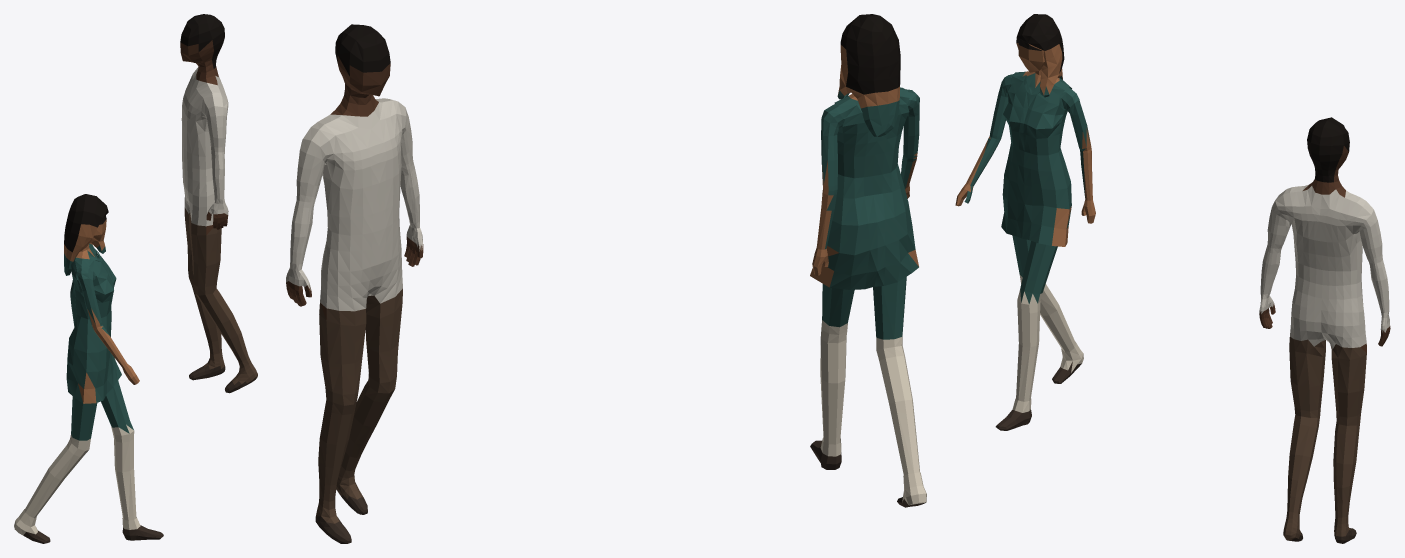
The model's file is room-court-fixtures.gltf.
The picture shows the model from 3 angles, left to right: view 1: azimuth 30°, elevation 25°; view 2: azimuth 150°, elevation 25°; view 3: azimuth 270°, elevation 25°; orthographic projection. The views are drawn at different scales.
Visible parts, largest first — view 1: room-court.baked.flat.001; view 2: room-court.baked.flat.001; view 3: room-court.baked.flat.001.
Boxes of the visible parts, x1,y1,x2,y2 form: room-court.baked.flat.001: [14, 14, 257, 543]; room-court.baked.flat.001: [286, 14, 926, 543]; room-court.baked.flat.001: [955, 14, 1390, 543].
Bounding box in the file's own units: 0.6627 × 0.6972 × 0.6598.
